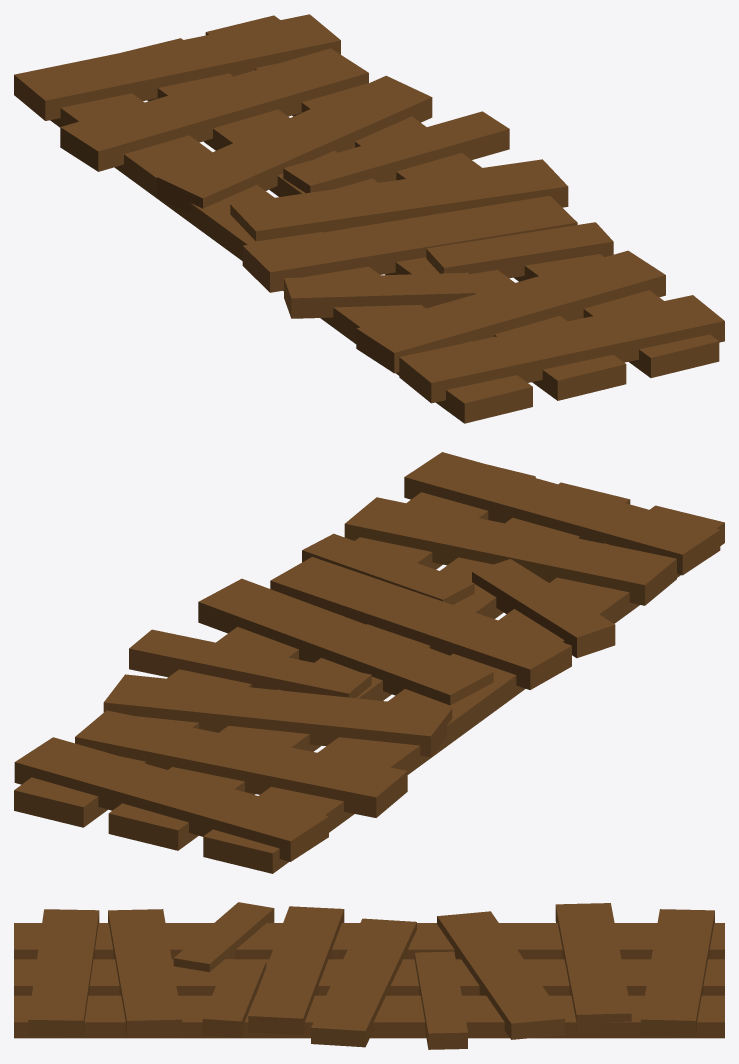
The model's file is Dock_Planks.fbx.
3 renders of one model, top to bottom at view 1: azimuth 30°, elevation 25°; view 2: azimuth 150°, elevation 25°; view 3: azimuth 270°, elevation 25°, orthographic. The views are drawn at different scales.
Parts seen in each view (by area): view 1: Cube.010; view 2: Cube.010; view 3: Cube.010.
Boxes of the visible parts, <box> form: Cube.010: <box>14,14,724,423</box>; Cube.010: <box>14,452,724,873</box>; Cube.010: <box>14,902,724,1049</box>.
Bounding box in the file's own units: 4.04 × 0.3484 × 9.24.
